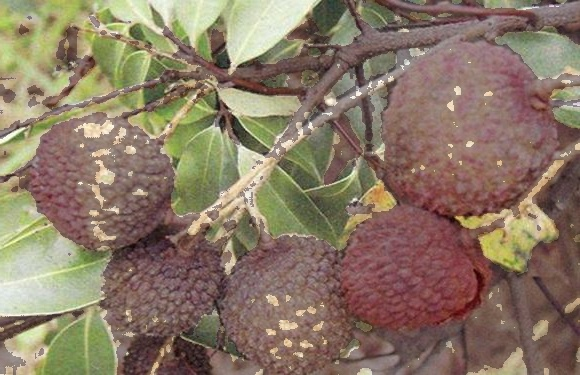Anthracnose: (399, 46, 518, 172), (51, 123, 160, 244), (235, 252, 339, 348), (118, 237, 221, 312), (367, 219, 469, 294)
